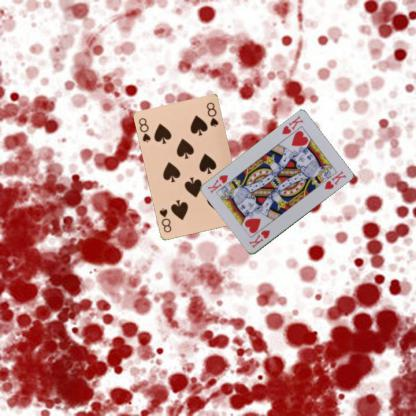8s: (136, 115, 152, 144)
Kh: (279, 113, 305, 136), (246, 228, 272, 249)
